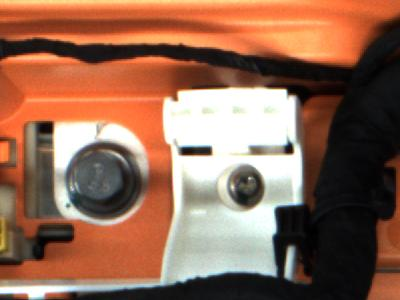nut_b: (71, 141, 144, 215)
screw_m: (226, 161, 270, 212)
